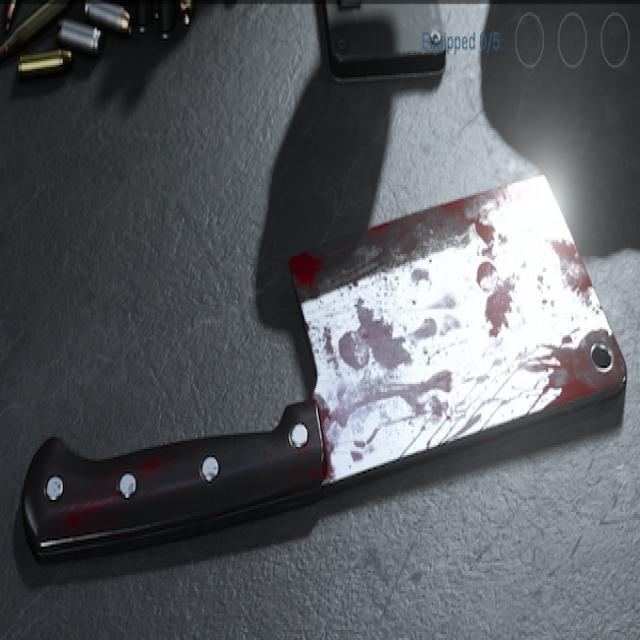cleaver: (22, 179, 624, 577)
